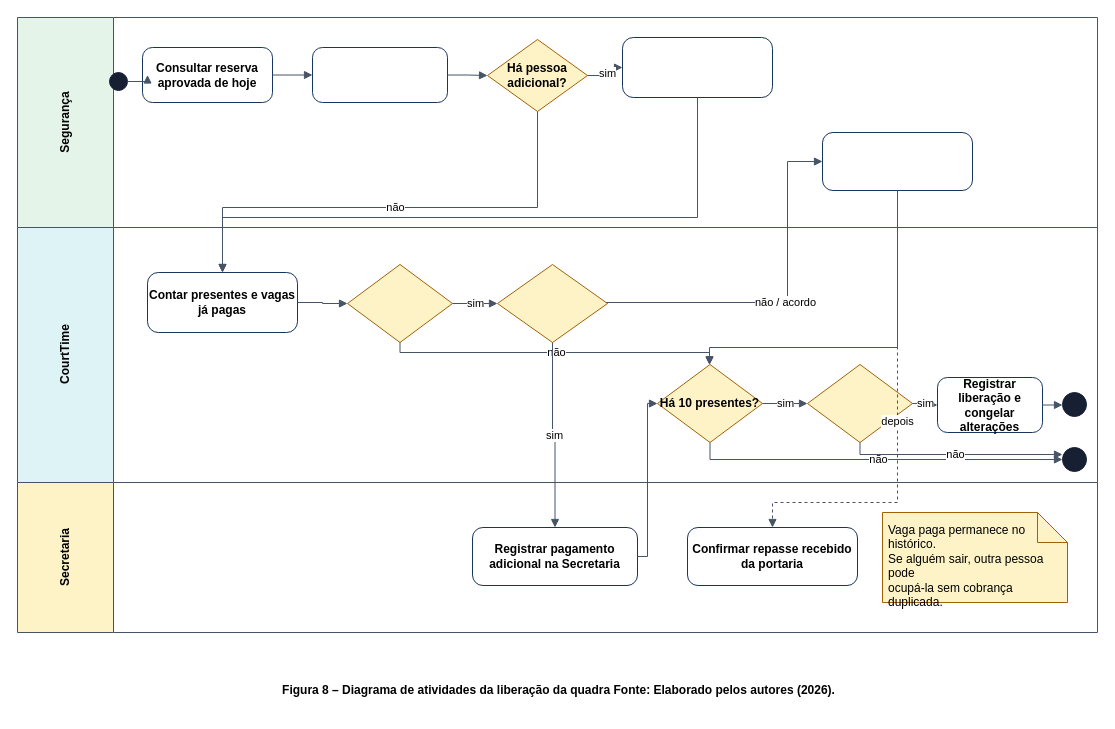
The diagram is 1115 pixels wide and 729 high, and some of its shapes have lost their labels. Here are the shapes that lost their labels. From the top down, the centre of each, then its label:
At (380,74): "Marcar presentes e ausentes".
At (697,67): "Cadastrar identificação, categoria e vínculo".
At (897,161): "Registrar pagamento adicional na portaria".
At (399,303): "Há valor adicional?".
At (552,303): "Pagamento na Secretaria?".
At (859,403): "Valor pendente = zero?".
